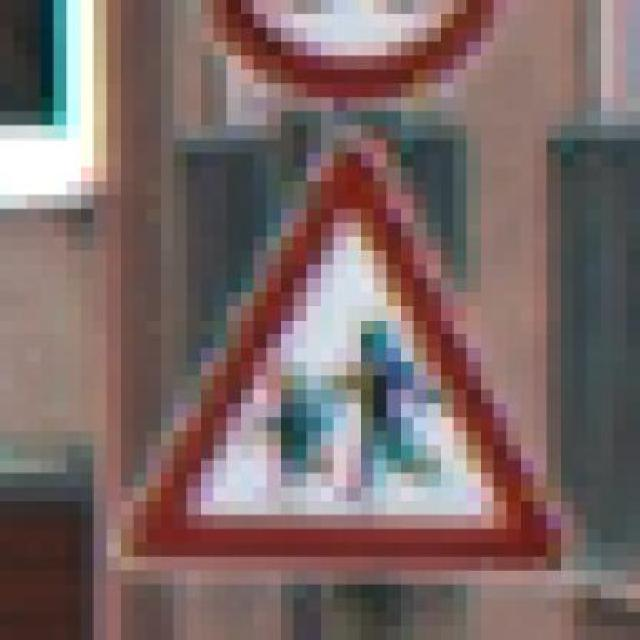Beware of children: (120, 110, 574, 584)
